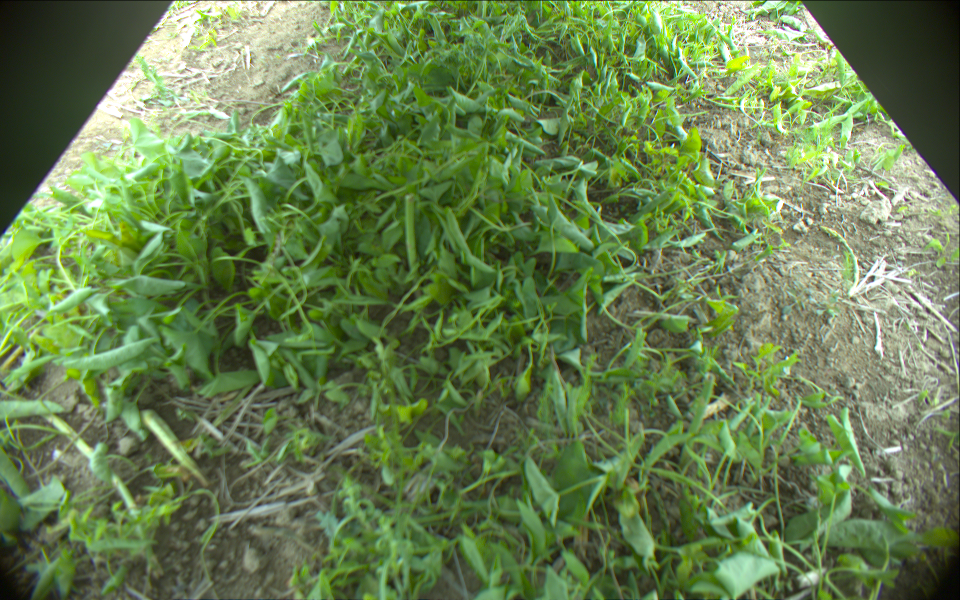aspa: (406, 194, 421, 291)
